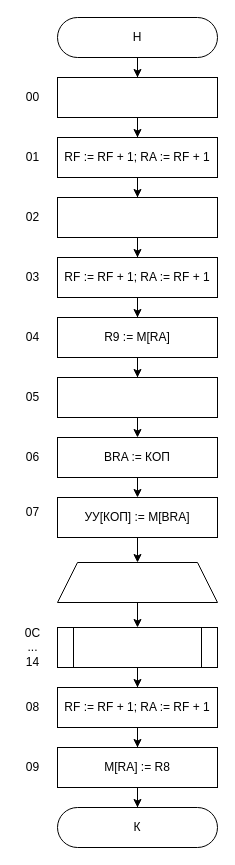
The diagram is 235 pixels wide and 865 high, and some of its shapes have lost their labels. The centre of each missing label's shape, as x and y in pixels:
"R0 := M[RA]" goes at (x=137, y=217).
"RA := 0" goes at (x=137, y=397).
"RF := 0" goes at (x=137, y=97).
"Дешифрация КОП" goes at (x=137, y=582).
"МП" goes at (x=137, y=647).
